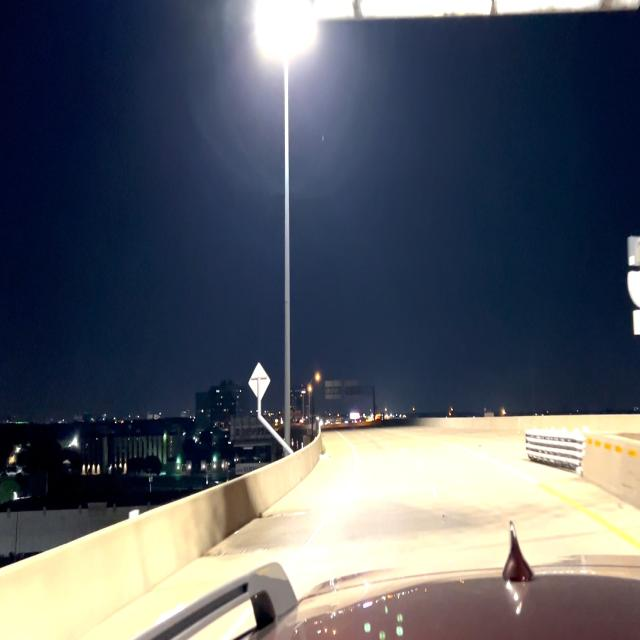back-of-sign: (250, 363, 270, 398)
